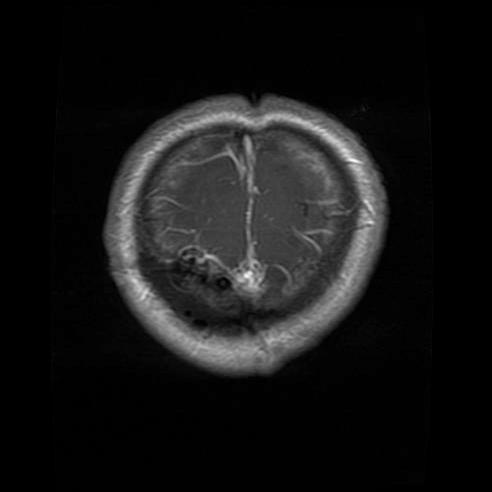Tumour-Glioma: (169, 251, 249, 326)
